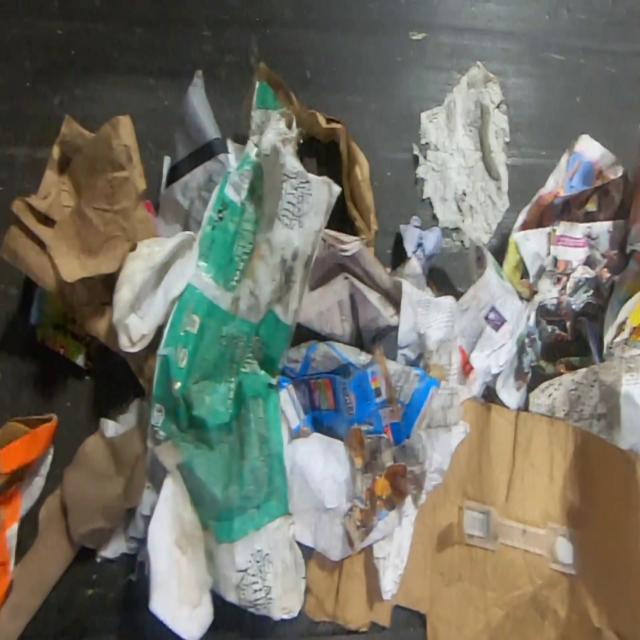cardboard: (301, 396, 640, 639), (0, 112, 162, 355), (275, 332, 446, 559), (0, 417, 144, 639), (258, 59, 382, 255), (30, 280, 99, 376)
